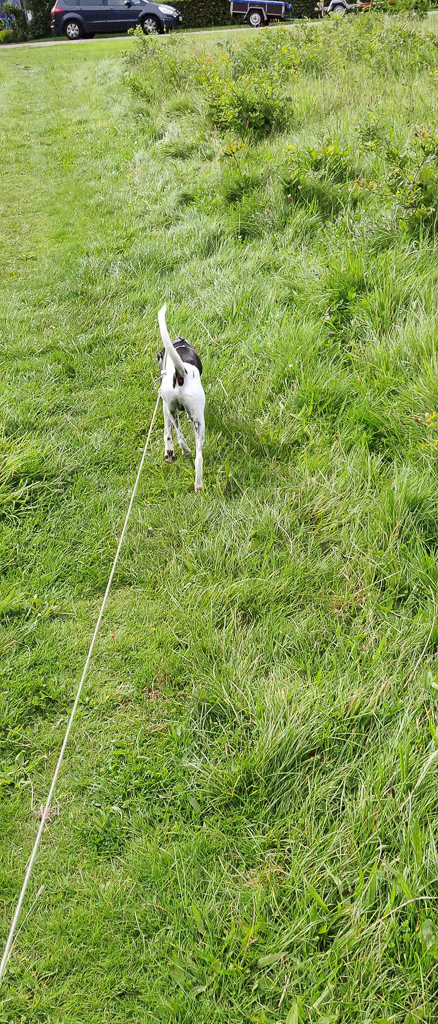Dog: (135, 294, 230, 502)
